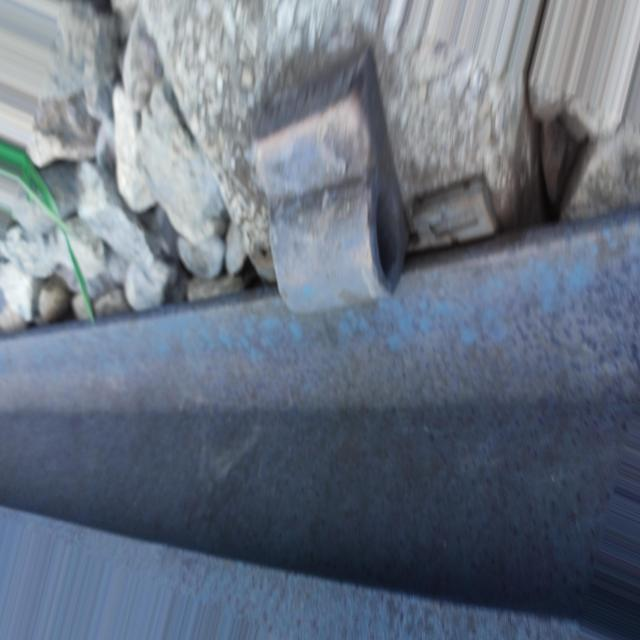Missing Fastener: (232, 3, 410, 352)
